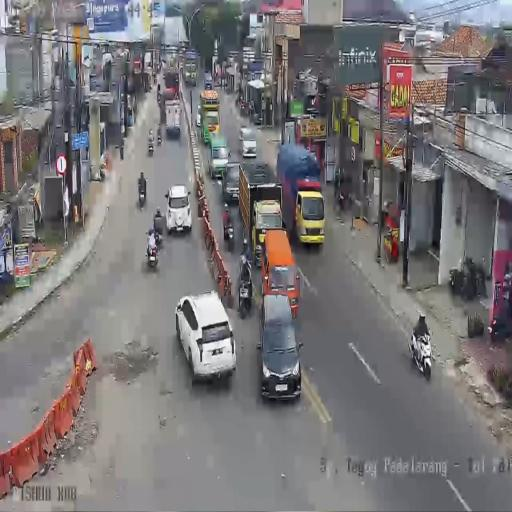car: (175, 290, 237, 384), (259, 294, 302, 399), (252, 198, 283, 267), (294, 183, 326, 249), (166, 184, 192, 234), (206, 134, 228, 179), (222, 160, 242, 206), (240, 126, 257, 158), (196, 104, 202, 128)
motorcycle: (238, 272, 252, 318), (223, 216, 235, 252), (336, 183, 348, 211), (138, 181, 146, 209), (148, 138, 154, 155), (156, 86, 161, 104), (157, 128, 162, 144), (153, 71, 157, 84)
truck: (200, 88, 220, 141), (165, 100, 181, 138), (164, 67, 180, 101), (184, 50, 198, 86), (204, 72, 213, 90)
